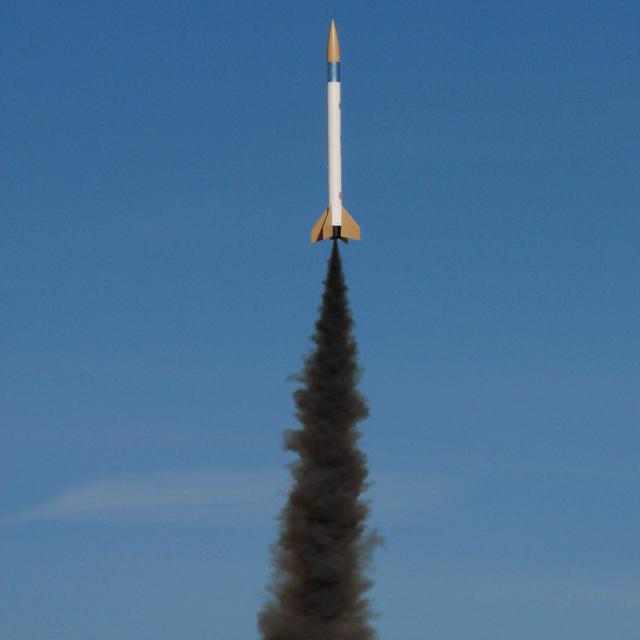Rocket: (308, 17, 363, 246)
